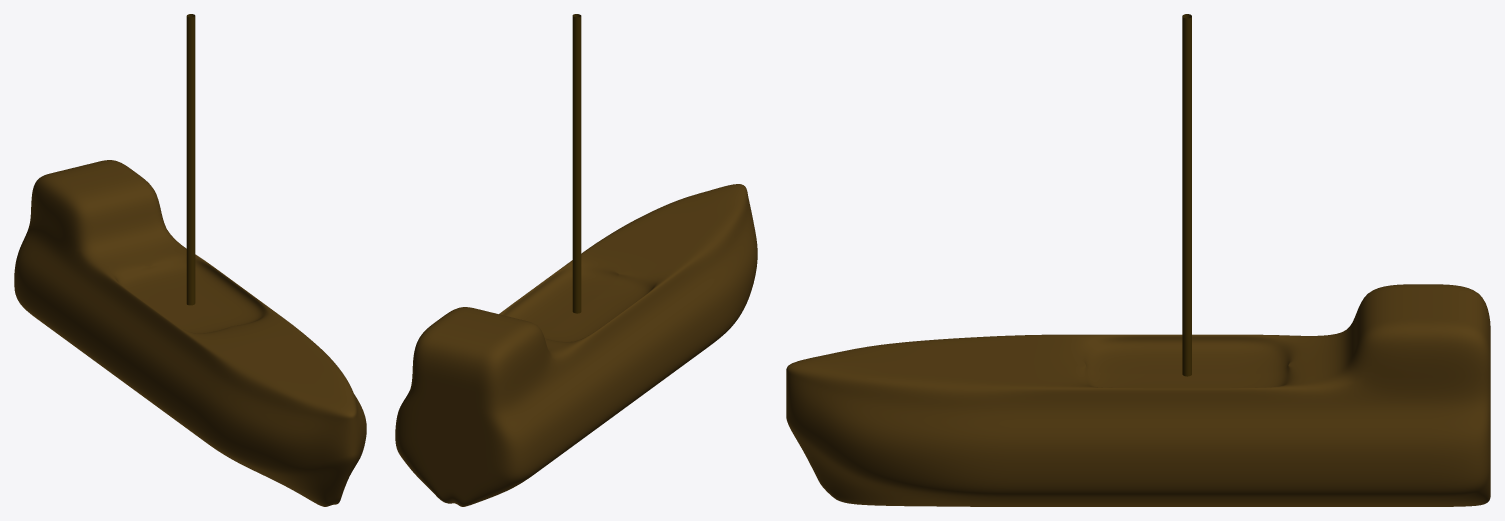
Rendered from Gallion7.fbx.
3 renders of one model, left to right at view 1: azimuth 30°, elevation 25°; view 2: azimuth 150°, elevation 25°; view 3: azimuth 270°, elevation 25°, orthographic. The views are drawn at different scales.
Parts seen in each view (by area): view 1: Cube, SurfCircle; view 2: Cube, SurfCircle; view 3: Cube, SurfCircle.
Part boxes in pixels (box(x1,y1,x2,y2)): Cube: box(14, 160, 366, 506); SurfCircle: box(186, 14, 195, 305); Cube: box(395, 184, 757, 506); SurfCircle: box(572, 14, 581, 313); Cube: box(786, 284, 1490, 506); SurfCircle: box(1182, 14, 1191, 376).
Size of the model in its own units: 2.82 by 8.22 by 10.78.
